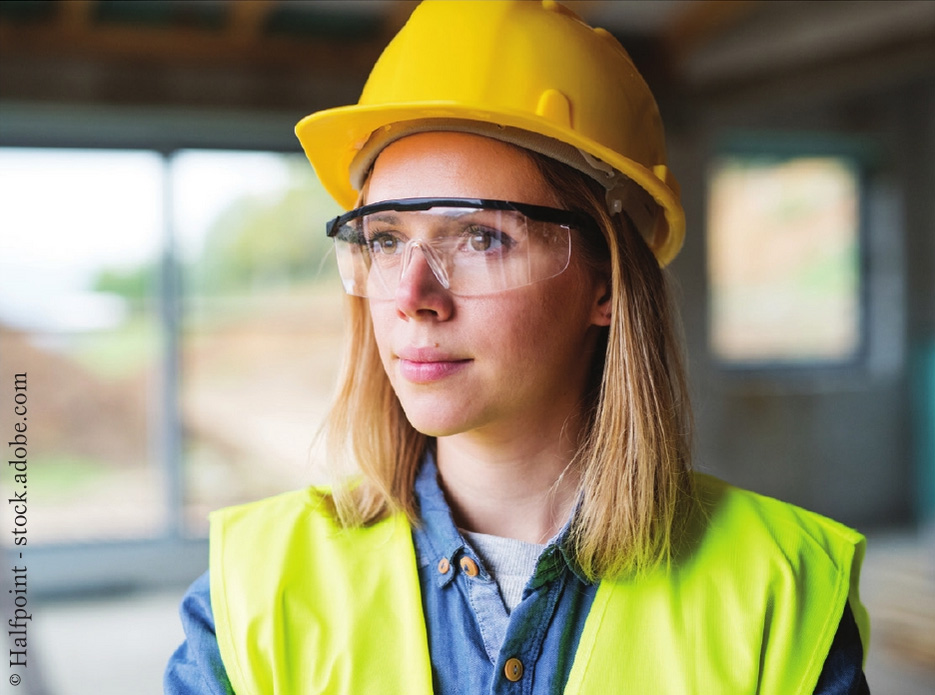Hard Hat: (277, 3, 707, 272)
Safety Glasses: (302, 197, 595, 305)
